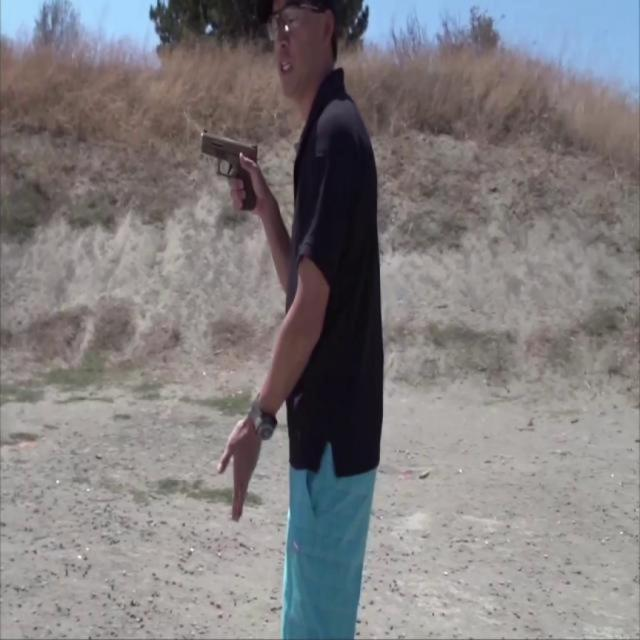pistol: (200, 132, 258, 212)
